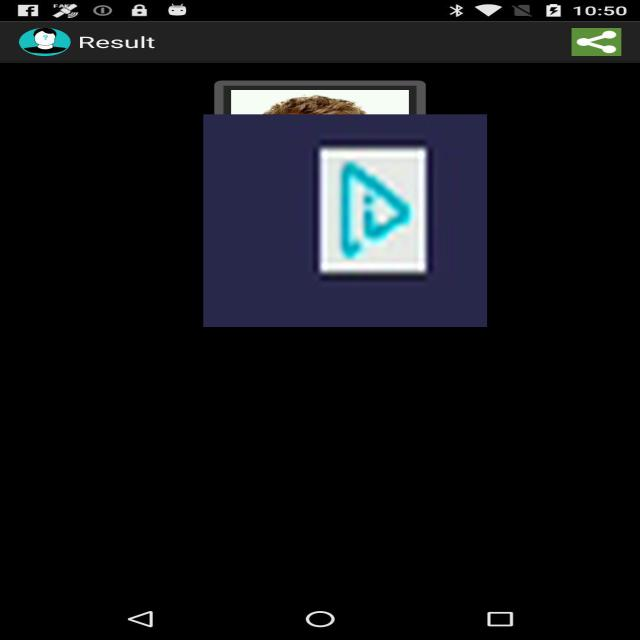sneaking: (203, 114, 487, 327)
